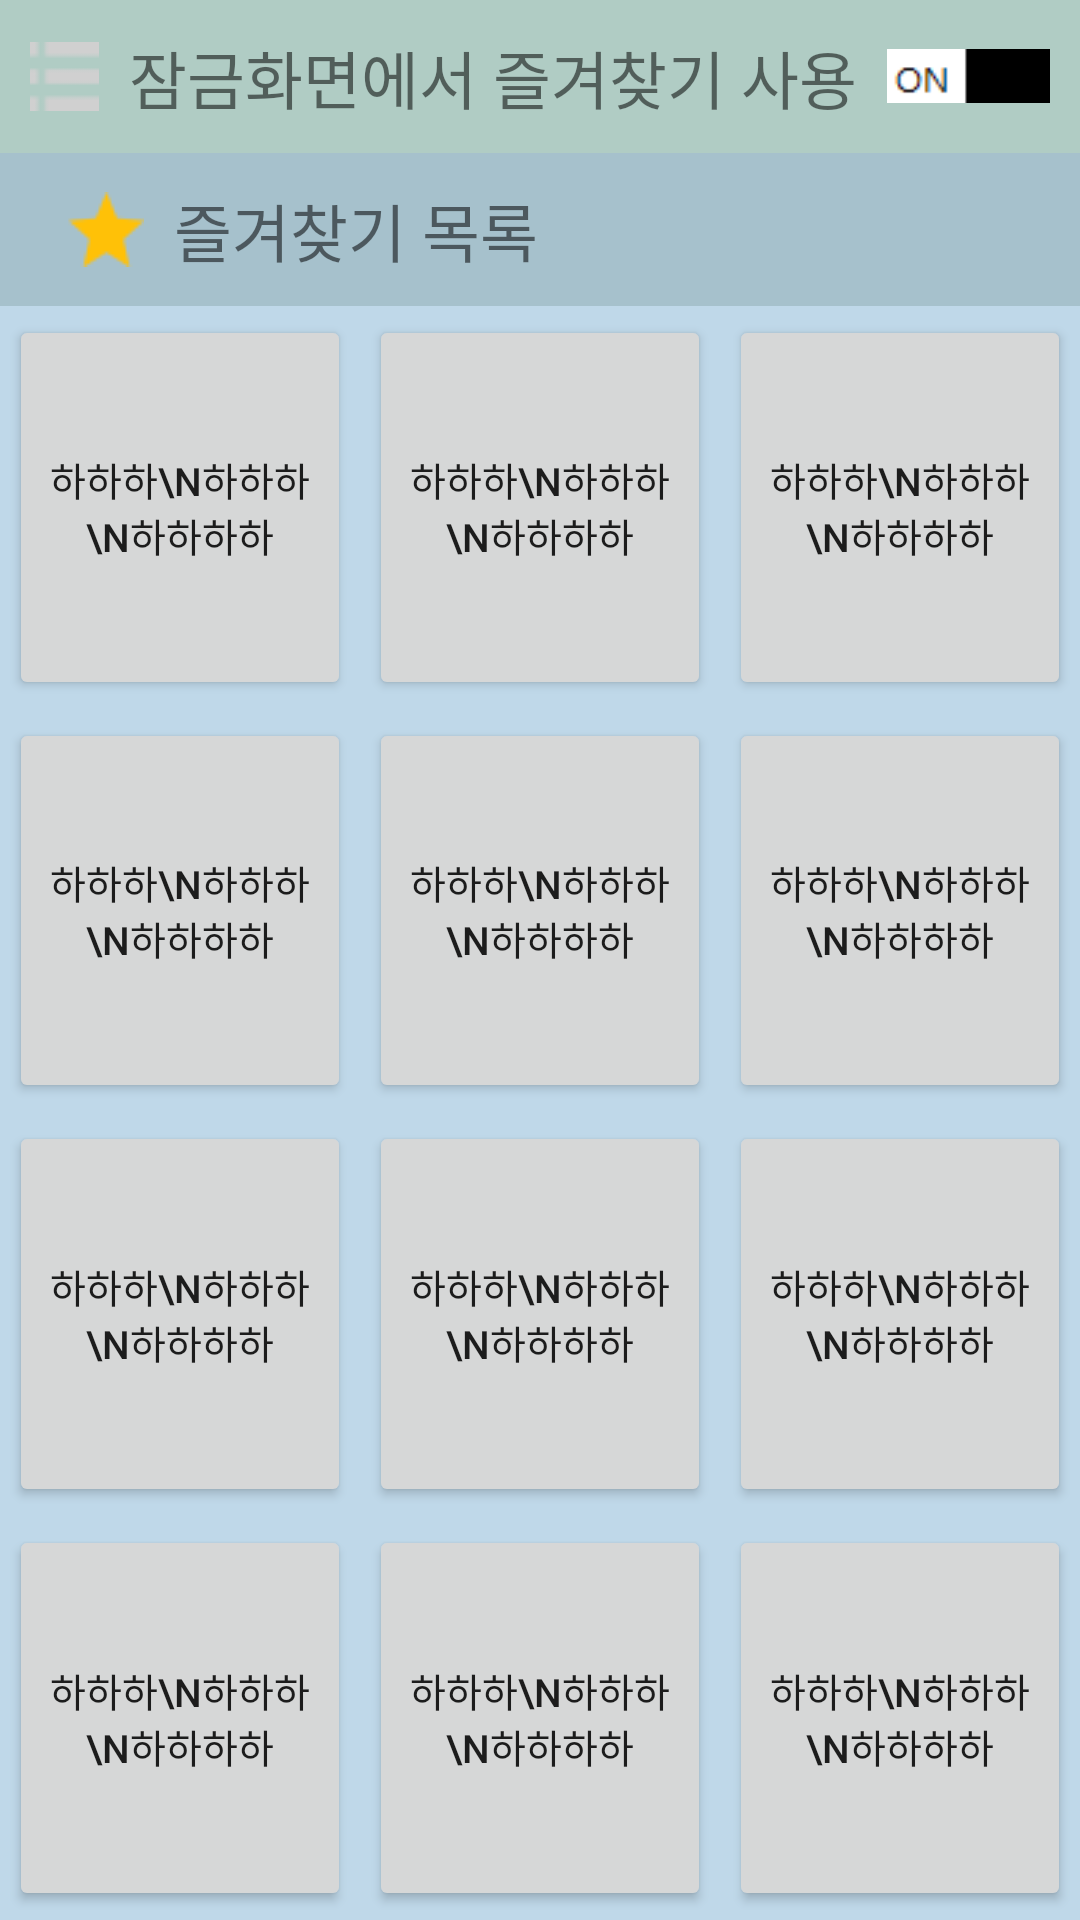

Icons on this 1080x1920 Android screen, each with its box as [x1,y1,x2,y2]:
favoritestar: [68,192,144,267]
menu: [30,42,99,111]
